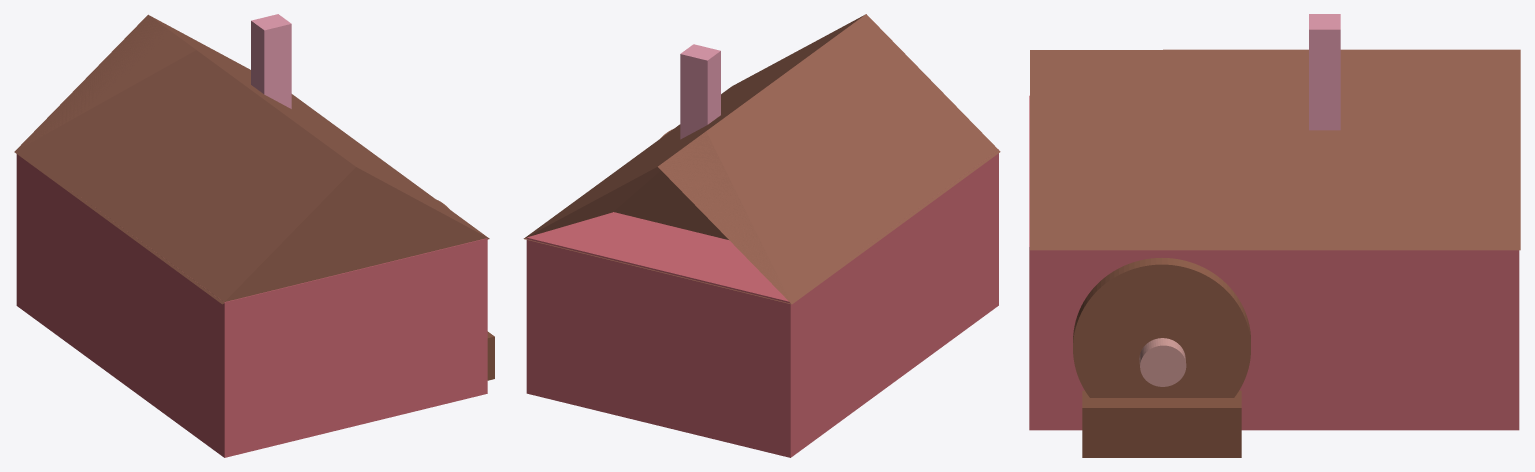
Rendered from Casinha 3.fbx.
3 views of the same model, side by side, from view 1: azimuth 30°, elevation 25°; view 2: azimuth 150°, elevation 25°; view 3: azimuth 270°, elevation 25° (orthographic). The views are drawn at different scales.
Parts seen in each view (by area): view 1: Cube.012; view 2: Cube.012; view 3: Cube.012.
Part boxes in pixels (box(x1,y1,x2,y2)): Cube.012: box(14, 14, 494, 457); Cube.012: box(523, 14, 1000, 457); Cube.012: box(1029, 14, 1520, 457).
Size of the model in its own units: 2185 by 2203 by 2675.
